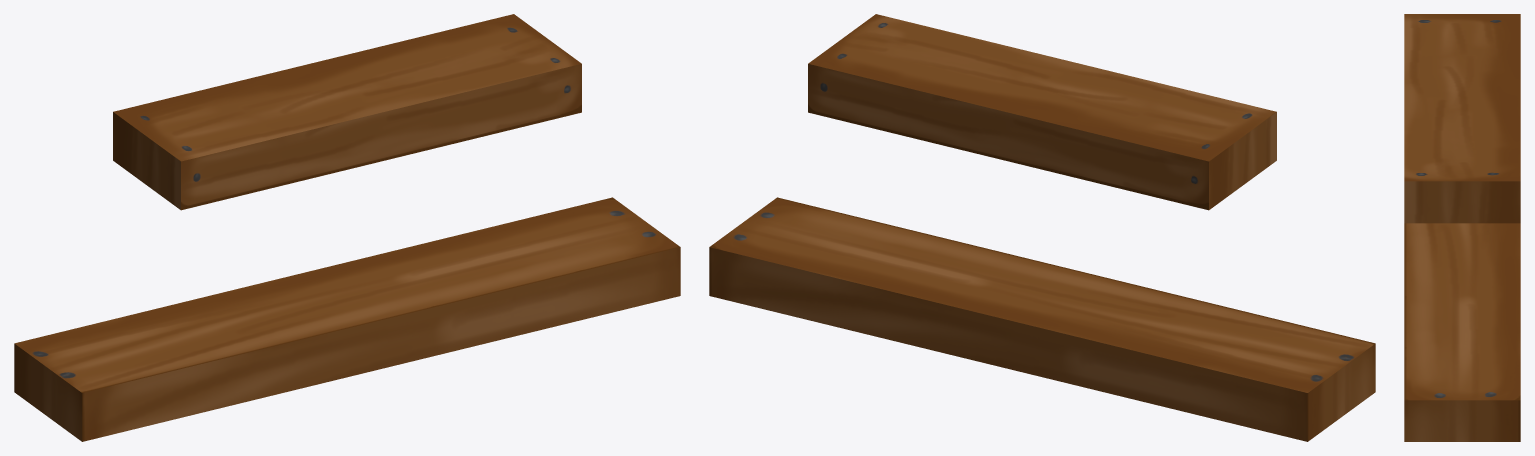
File: Shelves.fbx
3 views of the same model, side by side, from view 1: azimuth 30°, elevation 25°; view 2: azimuth 150°, elevation 25°; view 3: azimuth 270°, elevation 25° (orthographic). The views are drawn at different scales.
Visible parts, largest first — view 1: Shelf_1, Shelf_2; view 2: Shelf_1, Shelf_2; view 3: Shelf_1, Shelf_2.
Boxes of the visible parts, bbox=[...] form: Shelf_1: bbox=[14, 197, 680, 441]; Shelf_2: bbox=[113, 14, 581, 210]; Shelf_1: bbox=[709, 197, 1375, 441]; Shelf_2: bbox=[808, 14, 1276, 210]; Shelf_1: bbox=[1404, 223, 1520, 441]; Shelf_2: bbox=[1404, 14, 1520, 223].
Bounding box in the file's own units: 5.13 × 2.1 × 1.01.
